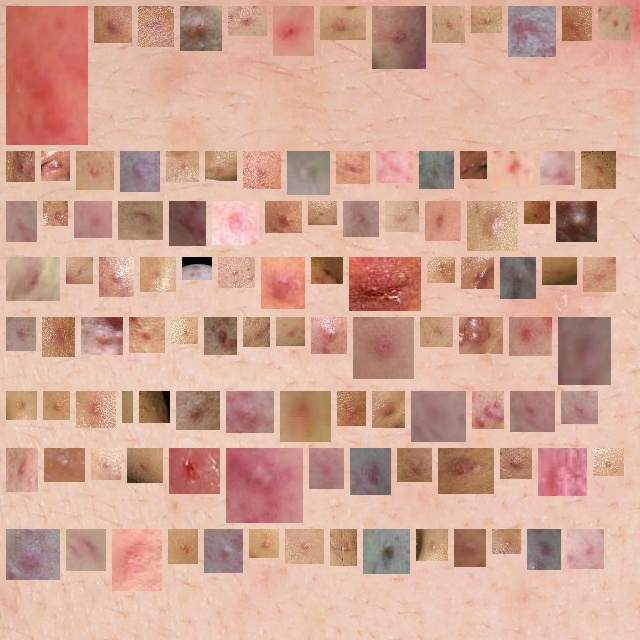papule: (14, 14, 80, 137), (234, 456, 295, 515), (357, 265, 413, 303), (361, 325, 406, 371), (564, 325, 603, 377), (380, 14, 418, 61), (120, 537, 154, 583), (419, 399, 458, 434), (14, 537, 52, 572), (288, 399, 323, 434), (446, 456, 486, 486), (475, 209, 510, 243), (516, 14, 548, 49), (14, 265, 52, 293), (546, 456, 579, 488), (177, 456, 212, 486), (269, 265, 297, 301), (371, 537, 402, 566), (220, 209, 251, 237), (281, 14, 306, 48), (234, 399, 266, 425), (358, 456, 383, 487), (295, 159, 322, 187), (188, 14, 214, 43), (518, 399, 547, 424), (126, 209, 155, 232), (184, 399, 212, 422), (212, 537, 235, 565), (564, 209, 589, 234), (74, 537, 98, 563), (517, 325, 544, 348), (177, 209, 198, 238), (128, 159, 152, 184), (467, 325, 495, 346), (89, 325, 115, 347), (501, 157, 526, 179), (328, 14, 358, 32), (508, 265, 528, 291), (84, 159, 106, 182), (84, 399, 108, 420), (575, 537, 596, 561), (146, 14, 166, 39), (251, 159, 273, 181), (433, 209, 453, 233), (317, 456, 336, 481), (102, 14, 124, 35), (82, 209, 104, 230), (107, 265, 126, 289), (52, 456, 77, 474), (535, 537, 553, 562), (14, 456, 30, 484), (293, 537, 316, 556), (319, 325, 339, 346), (427, 159, 446, 181), (589, 159, 608, 181), (50, 325, 67, 349), (351, 209, 371, 229), (137, 325, 157, 345), (148, 265, 168, 284), (135, 456, 155, 475), (14, 209, 29, 234), (212, 325, 229, 347), (440, 14, 457, 35), (380, 399, 397, 420), (569, 399, 590, 416), (480, 399, 496, 421), (462, 537, 478, 559), (548, 159, 567, 177), (405, 456, 424, 474), (384, 159, 405, 175), (273, 209, 294, 225), (591, 265, 608, 284), (236, 14, 259, 28), (226, 265, 247, 280), (606, 14, 623, 32), (344, 159, 362, 176), (213, 159, 229, 176), (469, 265, 486, 281), (393, 209, 411, 224), (570, 14, 584, 33), (176, 537, 190, 556), (424, 537, 440, 553), (174, 159, 191, 174), (14, 325, 28, 343), (345, 399, 358, 418), (147, 399, 162, 415), (508, 456, 524, 471), (428, 325, 445, 339), (338, 537, 349, 558), (550, 265, 569, 277), (99, 456, 113, 472), (14, 159, 27, 174), (14, 399, 29, 412), (49, 159, 62, 173), (257, 537, 271, 550), (601, 456, 616, 468), (319, 265, 335, 276), (284, 325, 297, 338), (479, 14, 494, 25), (251, 325, 262, 339), (51, 399, 62, 412), (468, 159, 479, 171), (74, 265, 85, 276), (179, 325, 190, 336), (435, 265, 447, 275), (500, 537, 513, 546), (316, 209, 329, 217), (190, 265, 204, 272), (51, 209, 60, 218), (532, 209, 542, 216)
